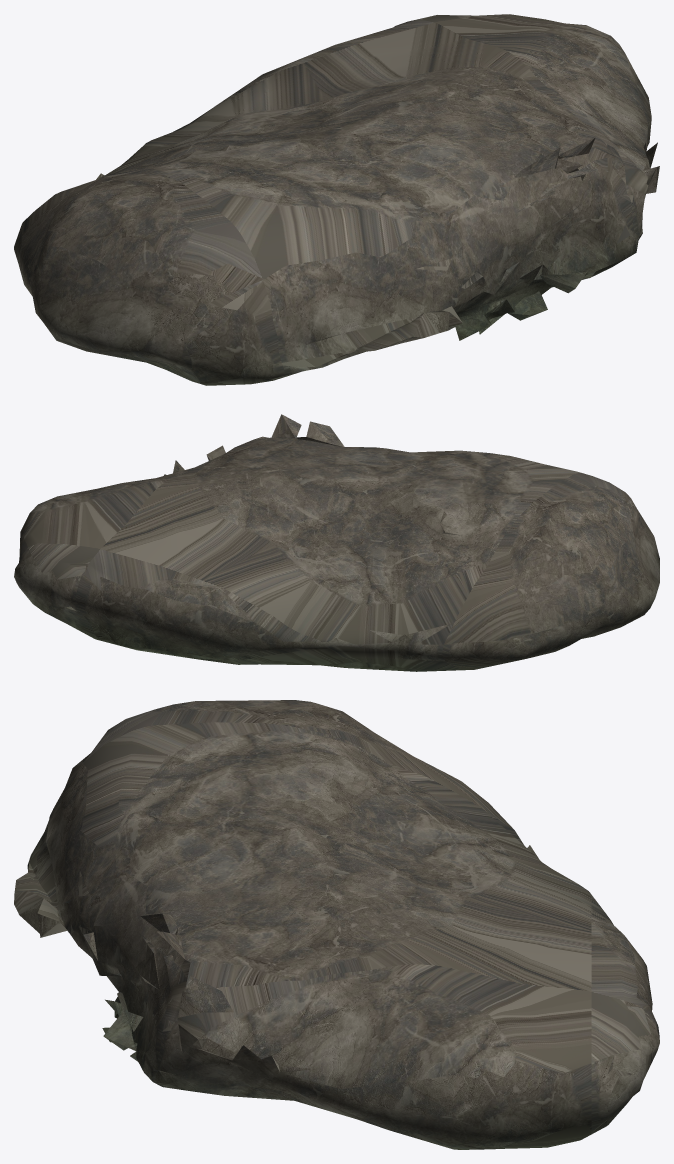
Rendered from coast_reef_a.glb.
3 views of the same model, one above another, from view 1: azimuth 30°, elevation 25°; view 2: azimuth 150°, elevation 25°; view 3: azimuth 270°, elevation 25° (orthographic). The views are drawn at different scales.
Parts seen in each view (by area): view 1: Cliff_Rock_Model; view 2: Cliff_Rock_Model; view 3: Cliff_Rock_Model.
Part boxes in pixels (<box>): Cliff_Rock_Model: <box>14,14,659,385</box>; Cliff_Rock_Model: <box>14,414,659,671</box>; Cliff_Rock_Model: <box>14,700,659,1149</box>.
Bounding box in the file's own units: 2.71 × 0.6789 × 2.03.
1 material, 1 textured.
